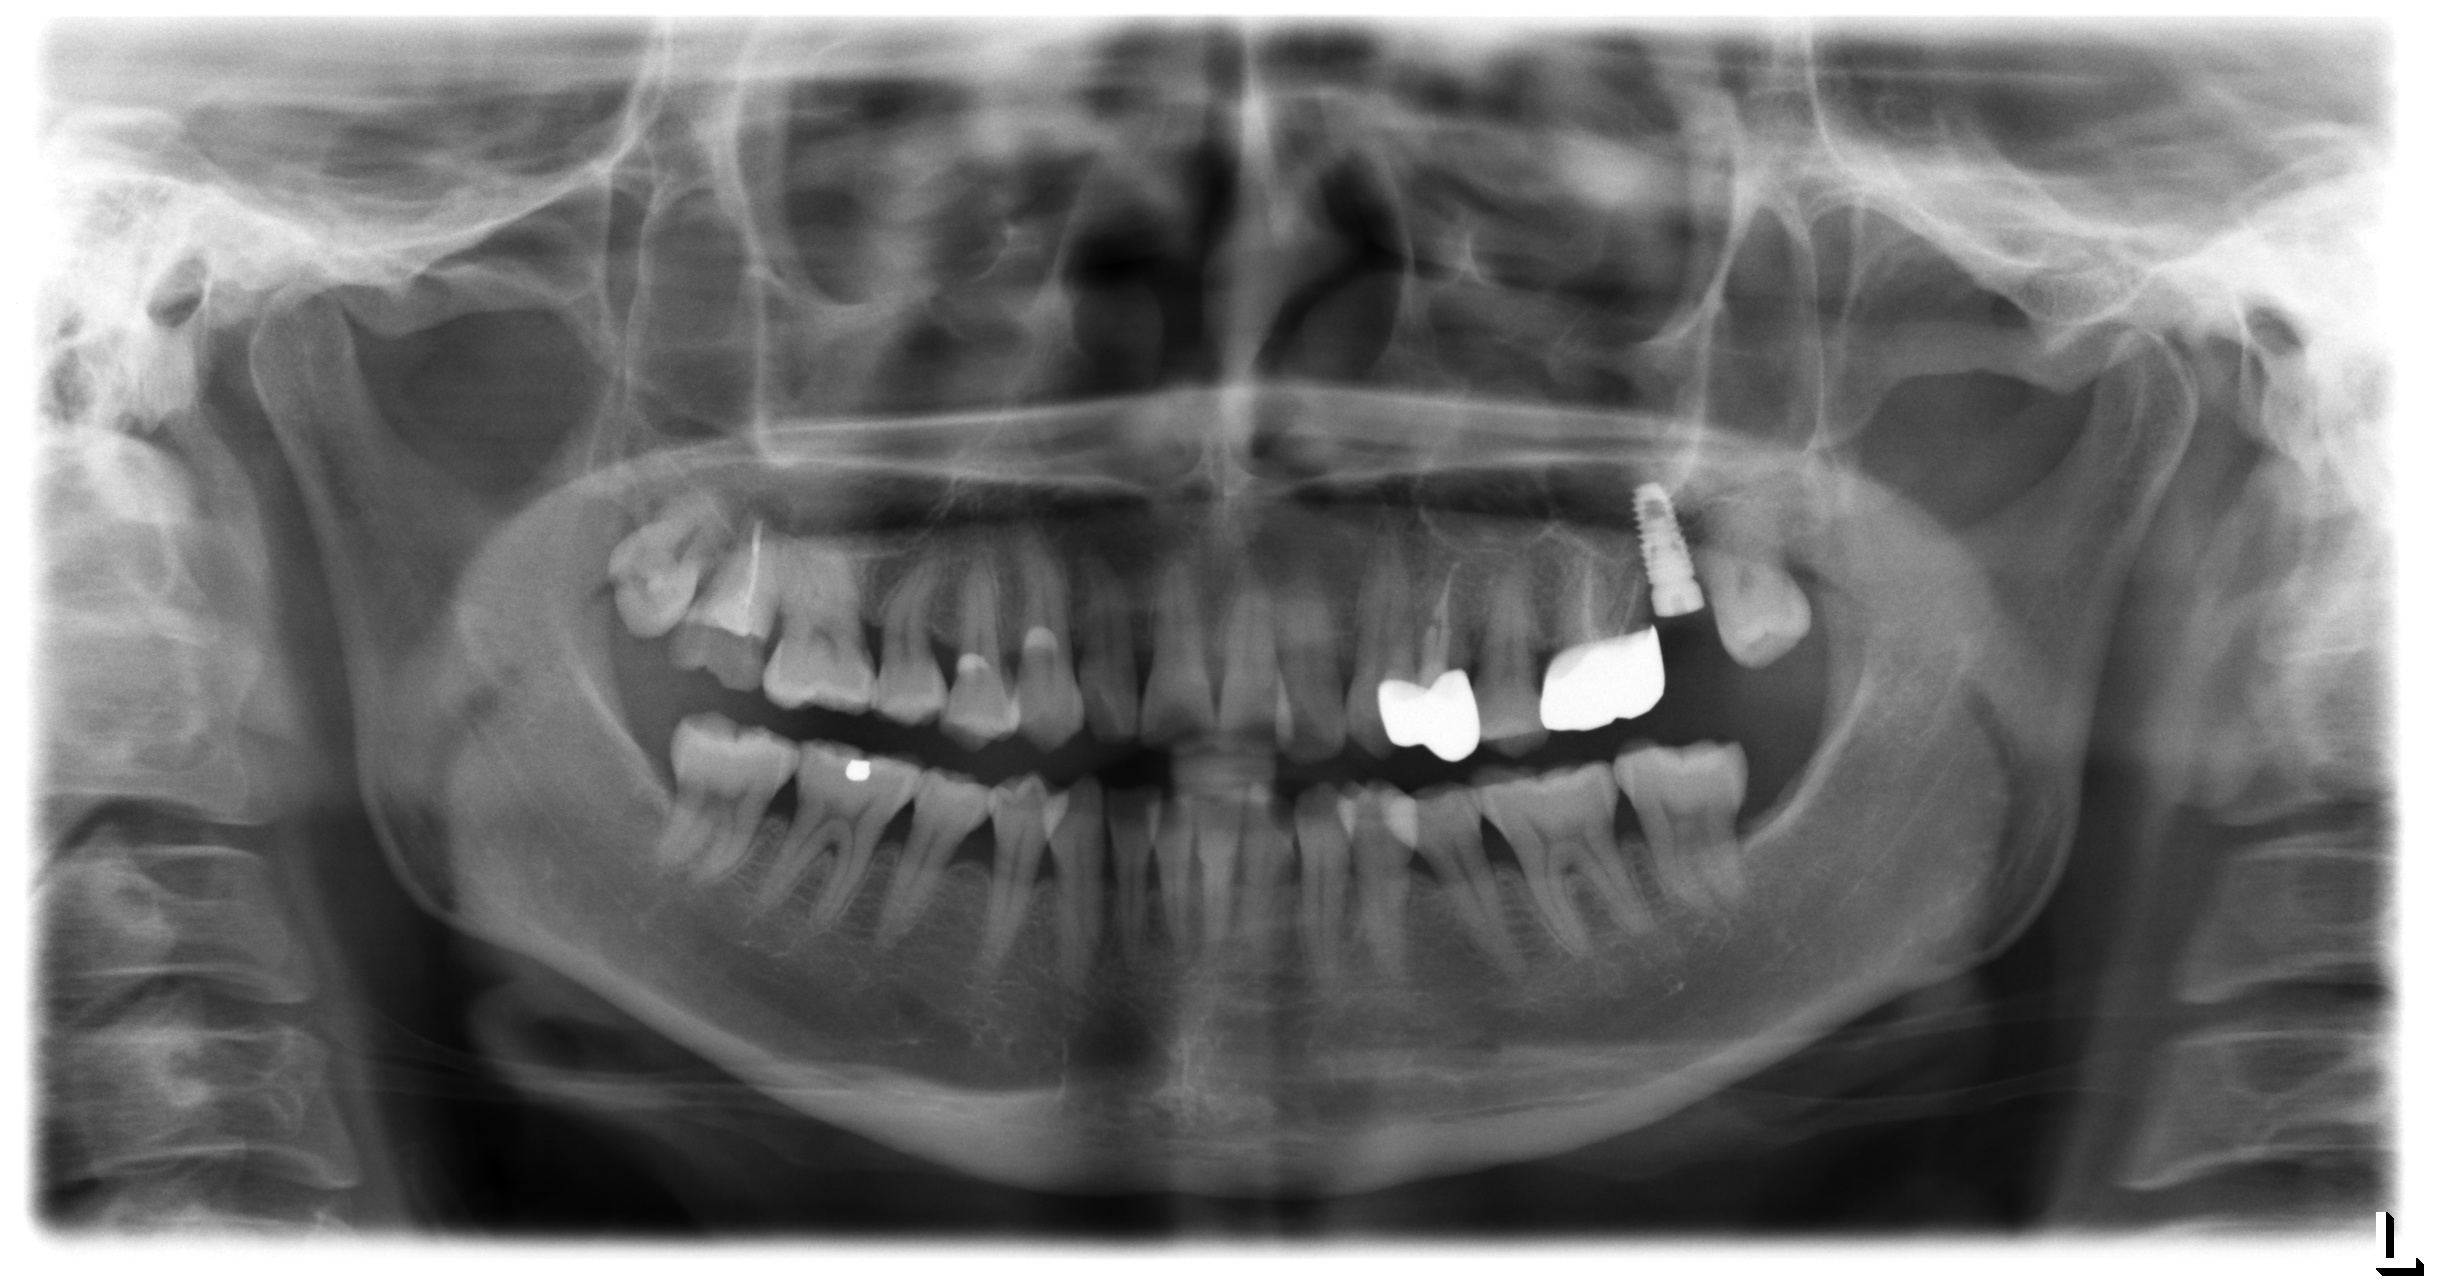Decay: (673, 609, 776, 689)
